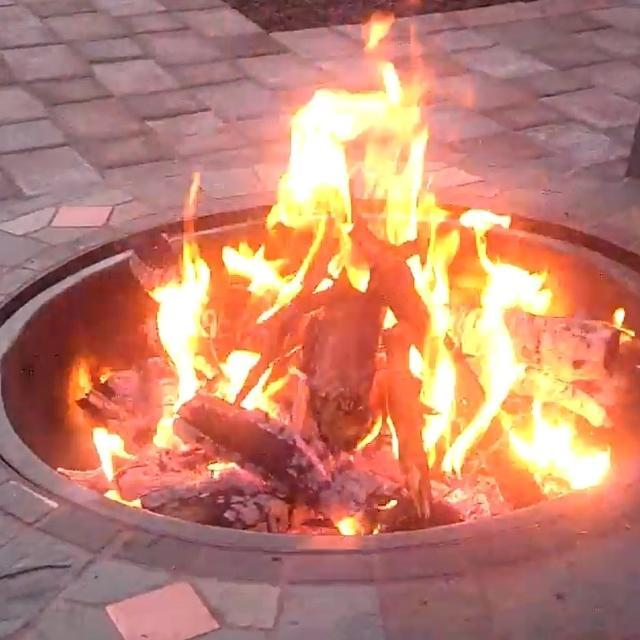Fire: (62, 10, 624, 533)
